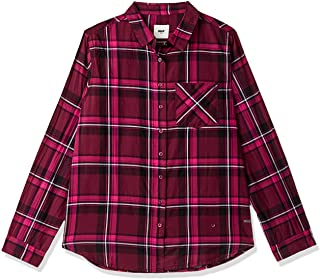shirt: (37, 1, 298, 269)
